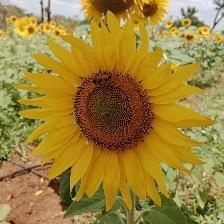sunflower: (16, 12, 219, 213), (78, 1, 136, 23), (136, 1, 171, 26), (185, 32, 196, 44), (28, 25, 38, 38), (181, 19, 193, 28), (29, 16, 39, 26), (43, 24, 52, 35), (203, 27, 213, 36), (50, 19, 58, 30), (54, 29, 63, 38), (165, 21, 174, 30), (216, 35, 224, 45), (198, 27, 203, 39), (41, 23, 45, 32)
